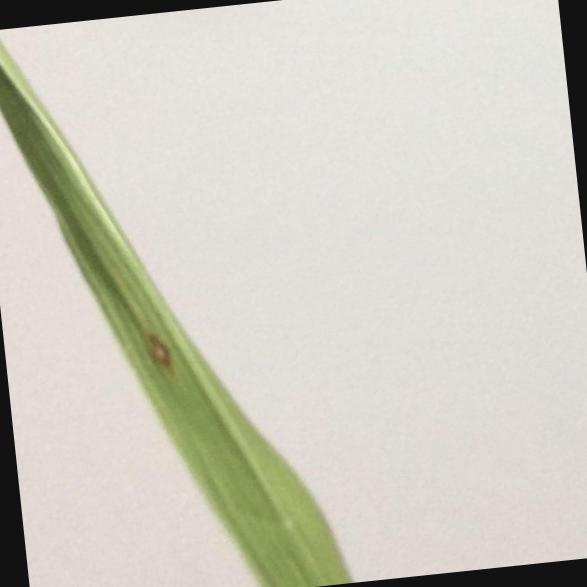Leaf_smut: (133, 301, 178, 377)
